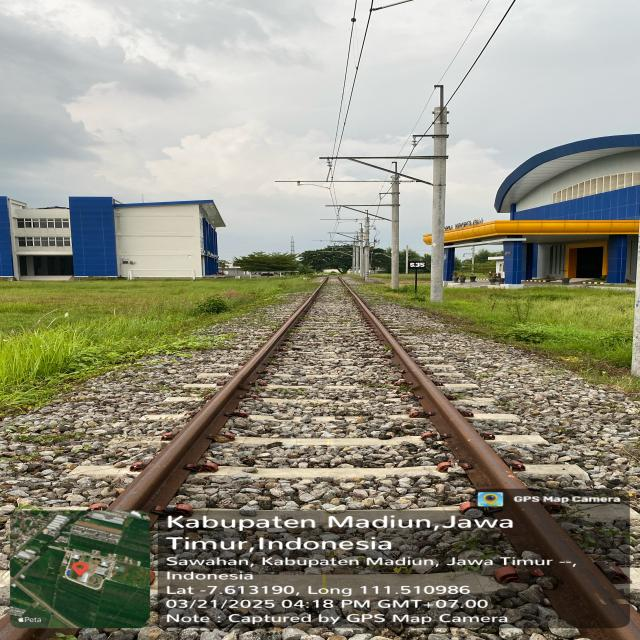rail-detection: (110, 275, 329, 512), (337, 275, 524, 498), (503, 502, 640, 640)
